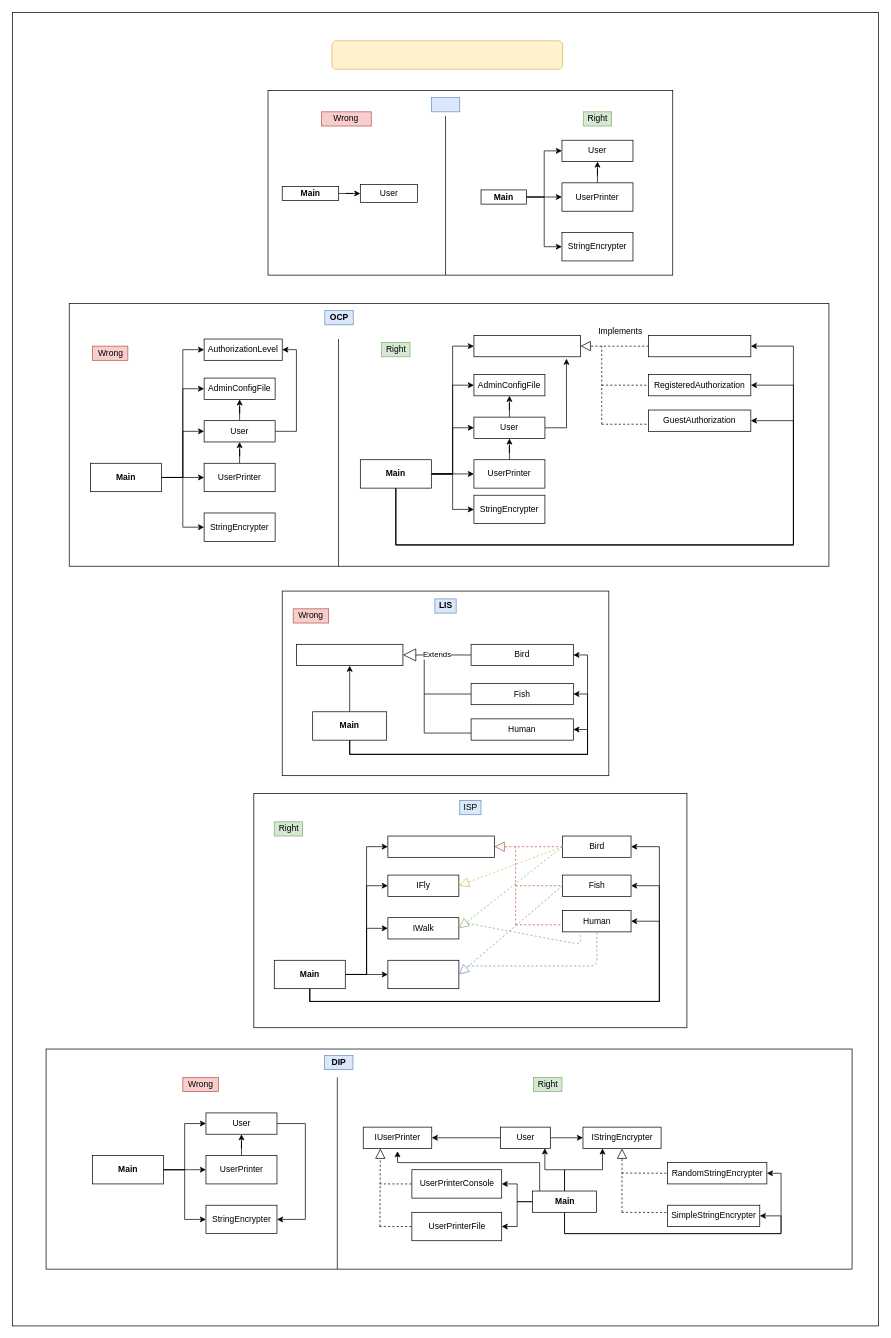
Image size: 891x1338. Some labels were removed from this diagram. The shapes that lost their labels are listed below. From the top down, each one's centre as x and y in pixels, then its label:
point (447, 54): UML Diagrams
point (445, 104): SRP
point (526, 346): IAuthorizationController
point (699, 346): AdminAuthorization
point (349, 655): AnimalBaseClass
point (440, 846): IAnimal
point (423, 974): ISwim
